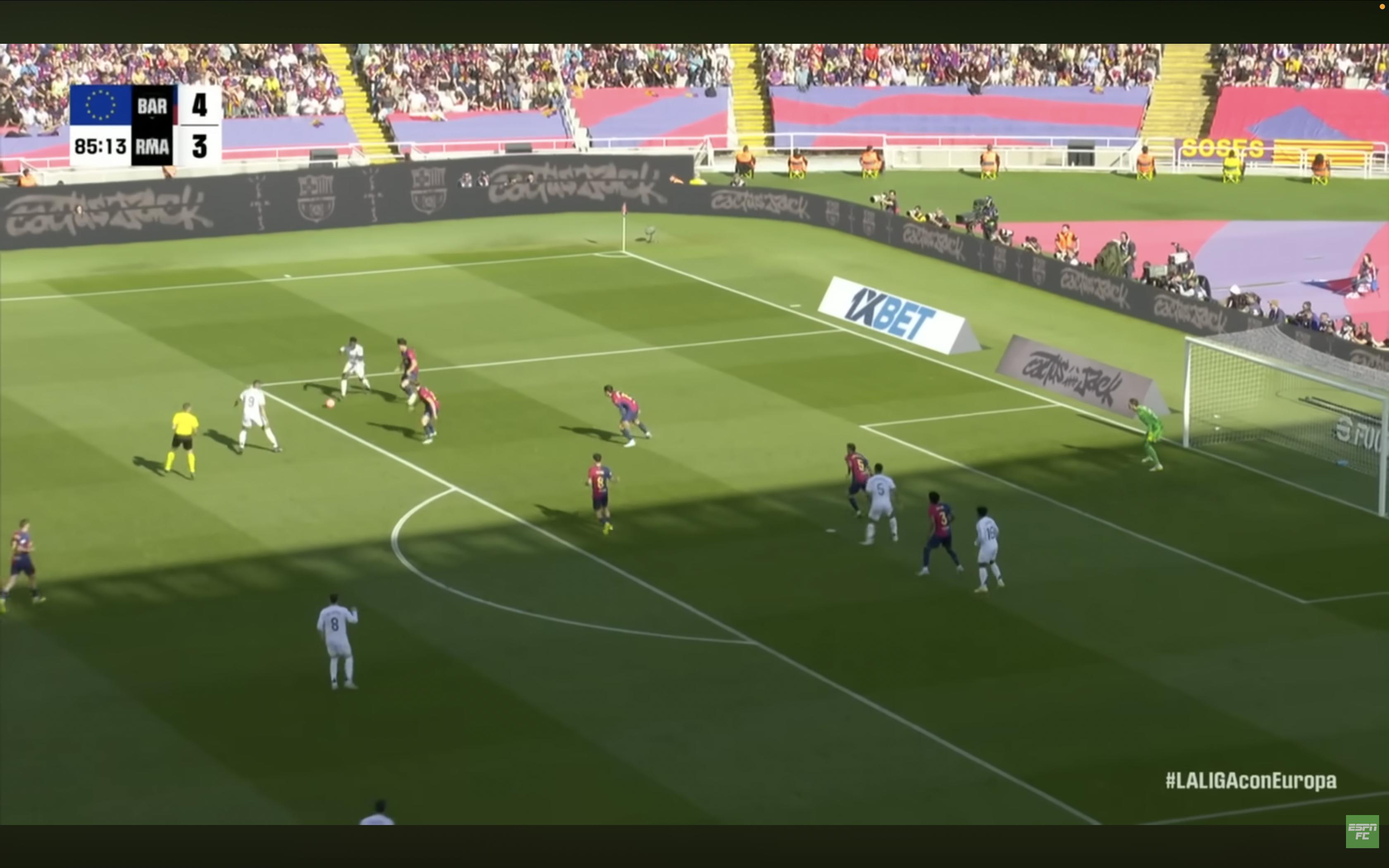ball: (324, 398, 336, 409)
goalkeeper: (1128, 398, 1163, 471)
player: (0, 520, 45, 614), (317, 594, 358, 690), (919, 492, 963, 575), (234, 380, 282, 454), (862, 464, 898, 545), (604, 385, 651, 447), (584, 453, 617, 535), (975, 506, 1004, 592), (845, 443, 871, 517), (340, 337, 370, 398), (397, 338, 419, 407), (417, 386, 439, 444), (359, 800, 395, 825)
referee: (164, 403, 199, 479)
